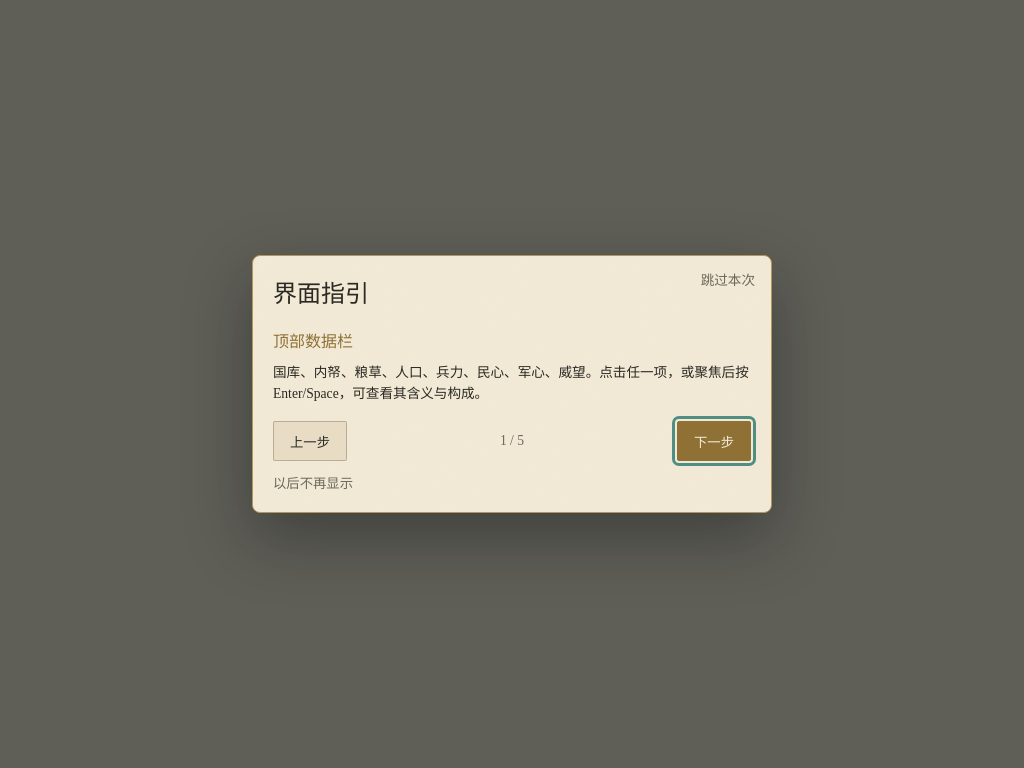
Test case: GuideModal › renders sections and responds to next/close
Expected: the heading "顶部数据栏" is shown, [273,333,353,350]
Click the button "下一步".
click(714, 441)  # box [677,421,751,461]
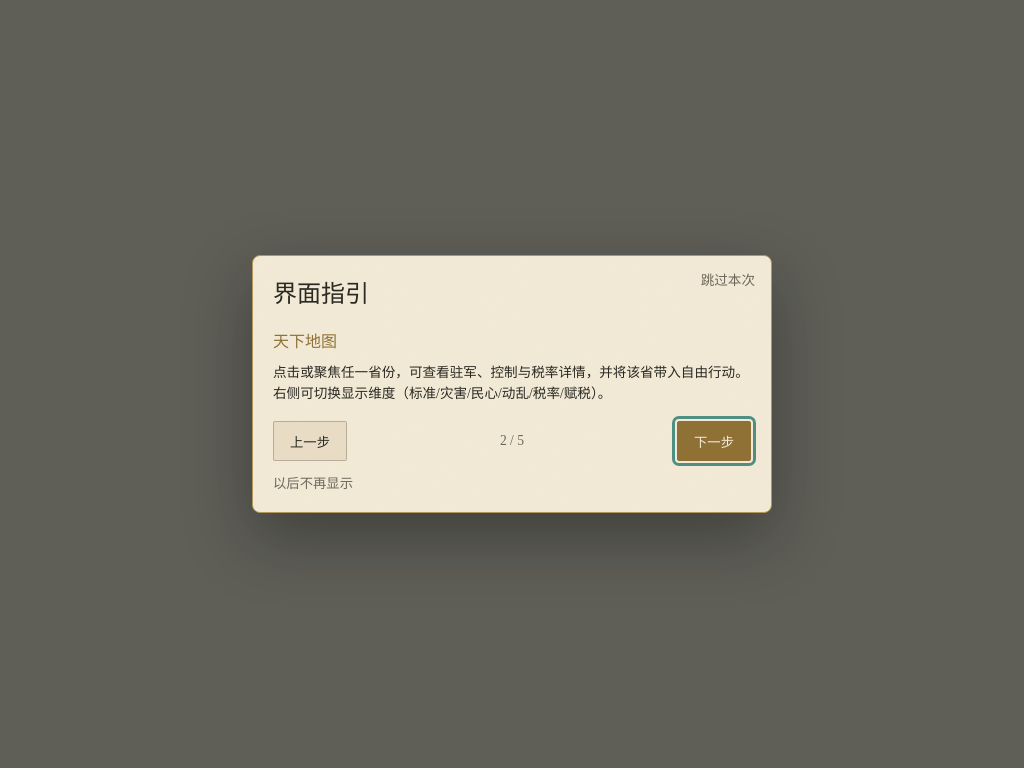
Result: the heading "天下地图" is shown at [273,333,337,350]
